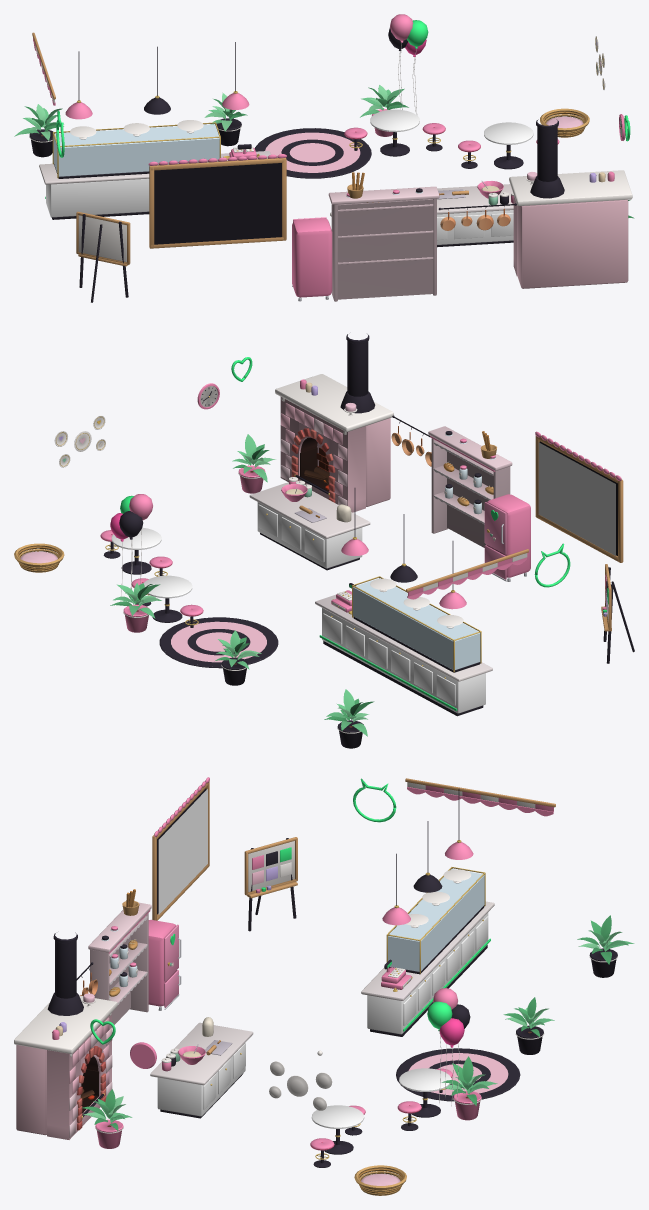
The model's file is zon_room_bakery.glb.
3 renders of one model, top to bottom at view 1: azimuth 30°, elevation 25°; view 2: azimuth 150°, elevation 25°; view 3: azimuth 270°, elevation 25°, orthographic. The views are drawn at different scales.
Visible parts, largest first — view 1: SM_zon_room_bakery_room_floor_plaster_xm1_z1, SM_zon_room_bakery_room_floor_wood_xm1_z1, SM_zon_room_bakery_room_floor_gloss_xm1_z1, SM_zon_room_bakery_room_floor_glaze_xm1_z1, SM_zon_room_bakery_kit_interior_xm1_z1, SM_zon_room_bakery_bakery_glass_xm1_z1, SM_zon_room_bakery_room_floor_fabric_xm1_z1, ANIM_fur_bk_decor_plant_2__0, ANIM_fur_bk_decor_basket__0, ANIM_fur_bk_decor_plant_1__0, ANIM_fur_bk_decor_plant_0__0, ANIM_fur_bk_decor_balloon_3__0 (+1 smaller); view 2: SM_zon_room_bakery_room_floor_gloss_xm1_z1, SM_zon_room_bakery_room_floor_glaze_xm1_z1, SM_zon_room_bakery_kit_interior_xm1_z1, SM_zon_room_bakery_room_floor_plaster_xm1_z1, SM_zon_room_bakery_room_floor_wood_xm1_z1, SCREEN_fur_bk_menu__0, SM_zon_room_bakery_bakery_glass_xm1_z1, SM_zon_room_bakery_room_floor_fabric_xm1_z1, ANIM_fur_bk_decor_plant_2__0, ANIM_fur_bk_decor_plant_0__0, ANIM_fur_bk_decor_plant_3__0, ANIM_fur_bk_decor_plant_1__0 (+2 smaller); view 3: SM_zon_room_bakery_room_floor_gloss_xm1_z1, SM_zon_room_bakery_room_floor_glaze_xm1_z1, SM_zon_room_bakery_room_floor_plaster_xm1_z1, SM_zon_room_bakery_kit_interior_xm1_z1, SM_zon_room_bakery_room_floor_wood_xm1_z1, SM_zon_room_bakery_bakery_glass_xm1_z1, SCREEN_fur_bk_menu__0, SM_zon_room_bakery_room_floor_fabric_xm1_z1, ANIM_fur_bk_decor_plant_0__0, ANIM_fur_bk_decor_plant_2__0, ANIM_fur_bk_decor_plant_3__0, ANIM_fur_bk_decor_plant_1__0 (+4 smaller).
Part boxes in pixels (x1,y1,x2,y2): SM_zon_room_bakery_room_floor_plaster_xm1_z1: [154, 132, 628, 288]; SM_zon_room_bakery_room_floor_wood_xm1_z1: [32, 32, 468, 301]; SM_zon_room_bakery_room_floor_gloss_xm1_z1: [51, 37, 625, 302]; SM_zon_room_bakery_room_floor_glaze_xm1_z1: [39, 36, 632, 262]; SM_zon_room_bakery_kit_interior_xm1_z1: [46, 109, 533, 244]; SM_zon_room_bakery_bakery_glass_xm1_z1: [53, 124, 219, 176]; SM_zon_room_bakery_room_floor_fabric_xm1_z1: [33, 38, 559, 198]; ANIM_fur_bk_decor_plant_2__0: [14, 104, 63, 157]; ANIM_fur_bk_decor_basket__0: [540, 108, 589, 137]; ANIM_fur_bk_decor_plant_1__0: [204, 93, 247, 146]; ANIM_fur_bk_decor_plant_0__0: [360, 85, 408, 136]; ANIM_fur_bk_decor_balloon_3__0: [390, 14, 413, 109]; SM_zon_room_bakery_room_floor_gloss_xm1_z1: [56, 334, 634, 716]; SM_zon_room_bakery_room_floor_glaze_xm1_z1: [54, 374, 621, 681]; SM_zon_room_bakery_kit_interior_xm1_z1: [111, 502, 485, 713]; SM_zon_room_bakery_room_floor_plaster_xm1_z1: [171, 397, 617, 662]; SM_zon_room_bakery_room_floor_wood_xm1_z1: [299, 426, 623, 631]; SCREEN_fur_bk_menu__0: [538, 442, 615, 555]; SM_zon_room_bakery_bakery_glass_xm1_z1: [353, 578, 480, 669]; SM_zon_room_bakery_room_floor_fabric_xm1_z1: [100, 442, 527, 668]; ANIM_fur_bk_decor_plant_2__0: [324, 689, 374, 748]; ANIM_fur_bk_decor_plant_0__0: [110, 583, 161, 632]; ANIM_fur_bk_decor_plant_3__0: [232, 434, 275, 493]; ANIM_fur_bk_decor_plant_1__0: [215, 630, 261, 685]; SM_zon_room_bakery_room_floor_gloss_xm1_z1: [47, 788, 518, 1167]; SM_zon_room_bakery_room_floor_glaze_xm1_z1: [14, 777, 494, 1137]; SM_zon_room_bakery_room_floor_plaster_xm1_z1: [16, 788, 508, 1139]; SM_zon_room_bakery_kit_interior_xm1_z1: [157, 912, 488, 1128]; SM_zon_room_bakery_room_floor_wood_xm1_z1: [80, 778, 555, 1100]; SM_zon_room_bakery_bakery_glass_xm1_z1: [388, 869, 484, 971]; SCREEN_fur_bk_menu__0: [158, 789, 207, 914]; SM_zon_room_bakery_room_floor_fabric_xm1_z1: [109, 782, 553, 1150]; ANIM_fur_bk_decor_plant_0__0: [441, 1056, 497, 1120]; ANIM_fur_bk_decor_plant_2__0: [577, 915, 634, 977]; ANIM_fur_bk_decor_plant_3__0: [82, 1089, 132, 1148]; ANIM_fur_bk_decor_plant_1__0: [503, 997, 554, 1054].
Bounding box in the file's own units: 15.37 × 4.31 × 14.18.
